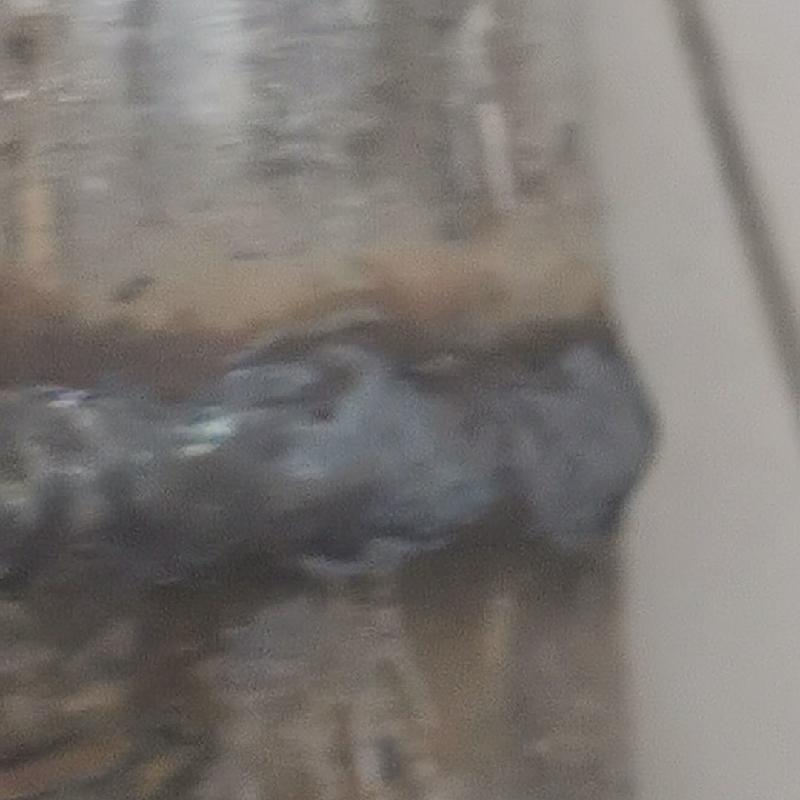good: (3, 345, 663, 582)
